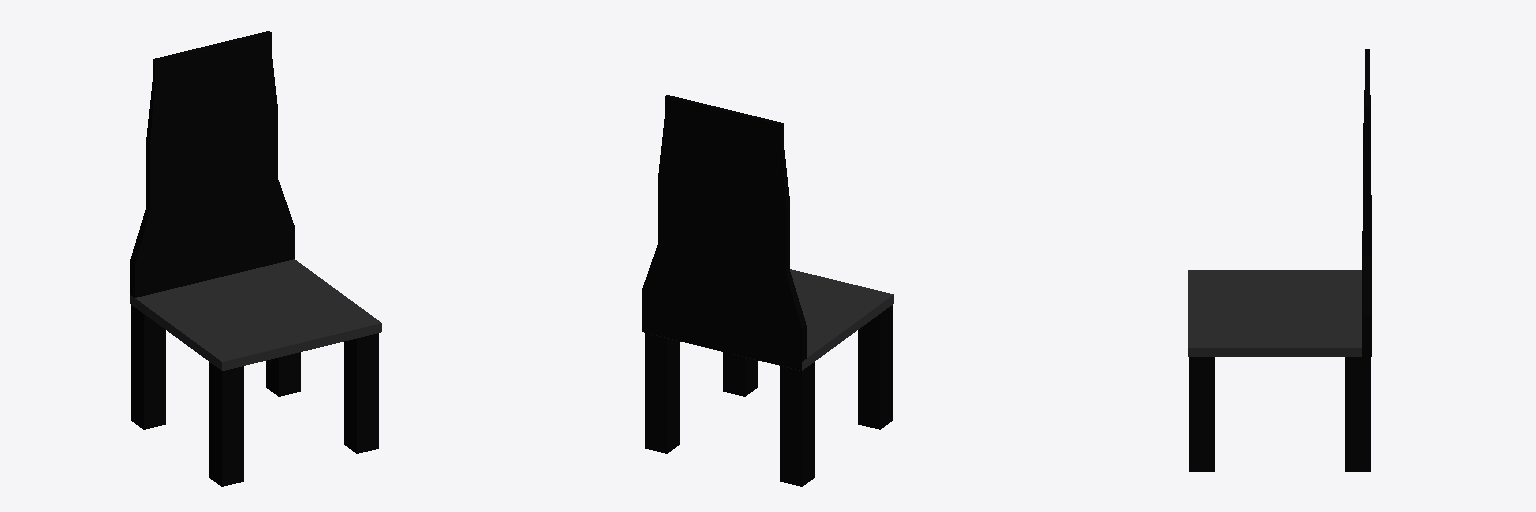
File: Chair.obj
3 views of the same model, side by side, from view 1: azimuth 30°, elevation 25°; view 2: azimuth 150°, elevation 25°; view 3: azimuth 270°, elevation 25° (orthographic).
Visible parts, largest first — view 1: Cube.012; view 2: Cube.012; view 3: Cube.012.
Boxes of the visible parts, x1=… form: Cube.012: x1=130, y1=31, x2=381, y2=486; Cube.012: x1=642, y1=95, x2=893, y2=486; Cube.012: x1=1188, y1=49, x2=1371, y2=471.
Size of the model in its own units: 7.09 by 15.12 by 7.11.